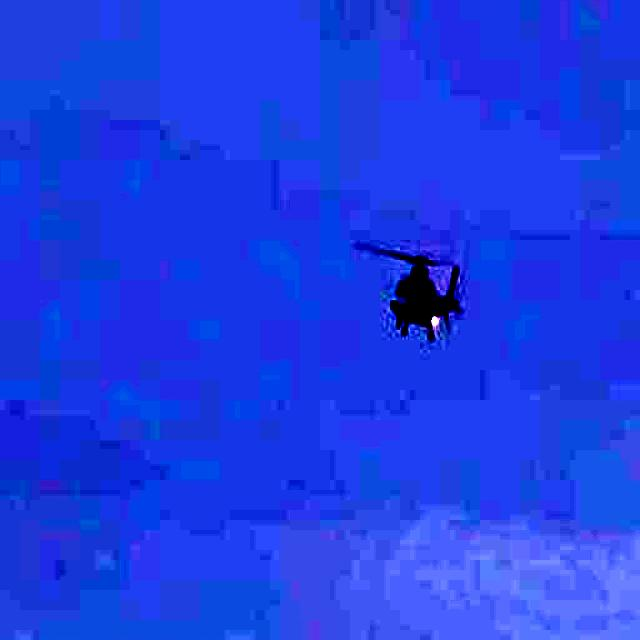drone: (328, 221, 495, 361)
